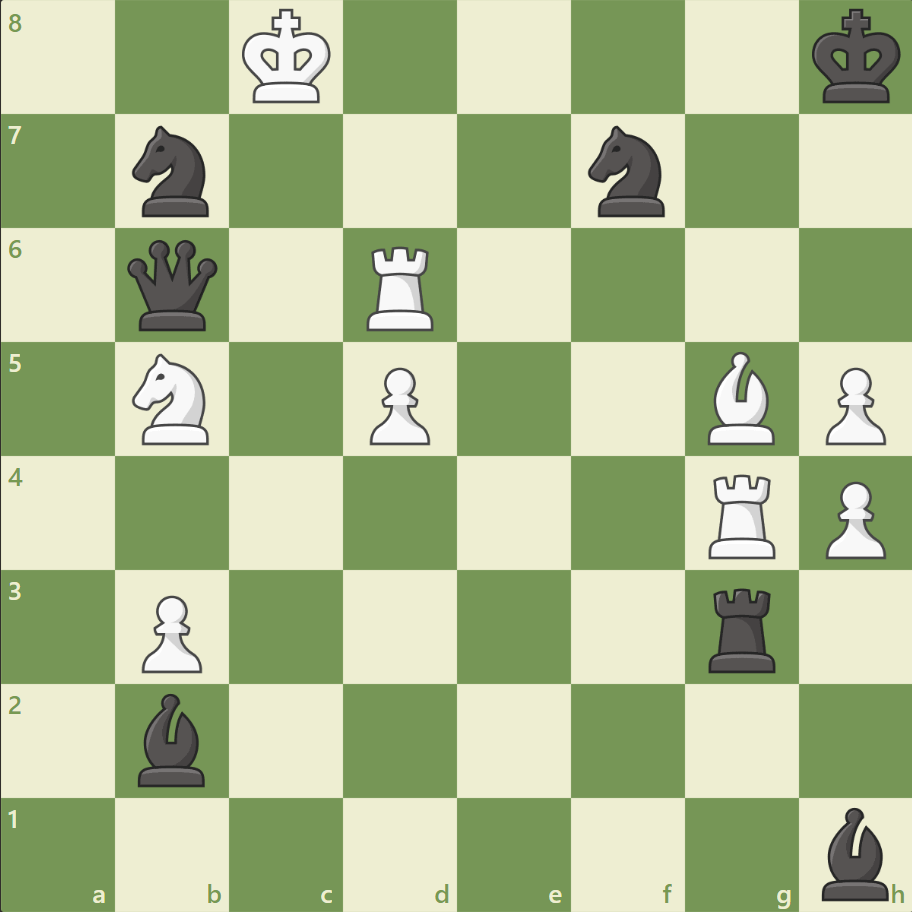B: (698, 347, 782, 449)
K: (238, 4, 338, 112)
N: (124, 348, 222, 450)
P: (133, 586, 208, 677), (361, 359, 435, 450), (815, 359, 889, 450), (815, 473, 889, 564)
R: (700, 466, 783, 563), (360, 239, 442, 336)
b: (131, 687, 215, 790), (812, 801, 896, 904)
k: (806, 4, 906, 112)
n: (124, 121, 222, 223), (579, 121, 676, 223)
q: (124, 236, 223, 335)
r: (700, 579, 783, 676)
